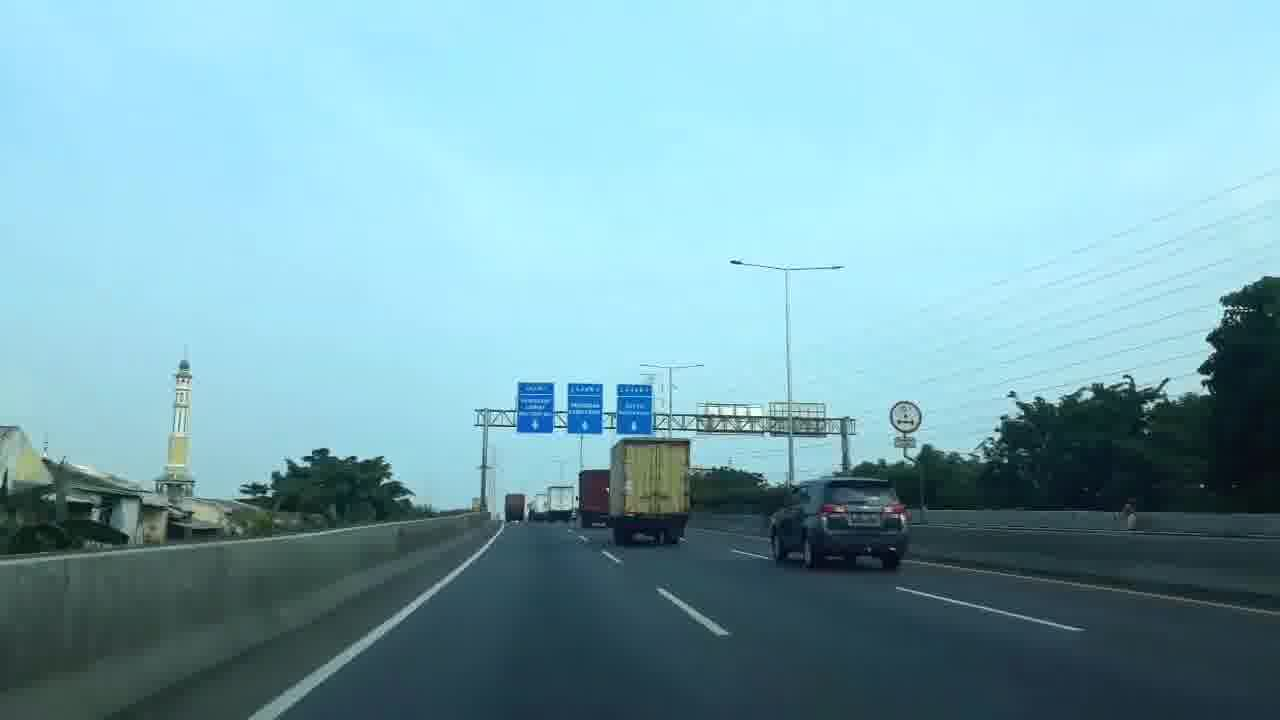plate_positive: (850, 512, 880, 523)
